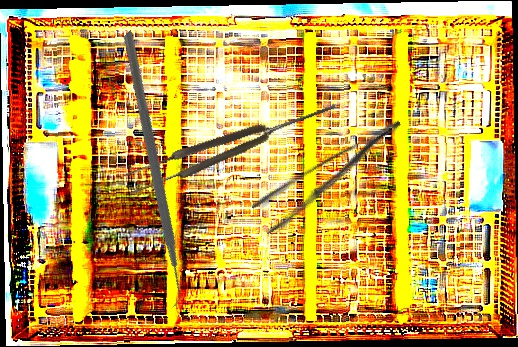Chopper: (5, 30, 289, 317)
Dressing Forceps: (249, 117, 417, 237)
Tissue Forceps: (122, 94, 342, 197)
